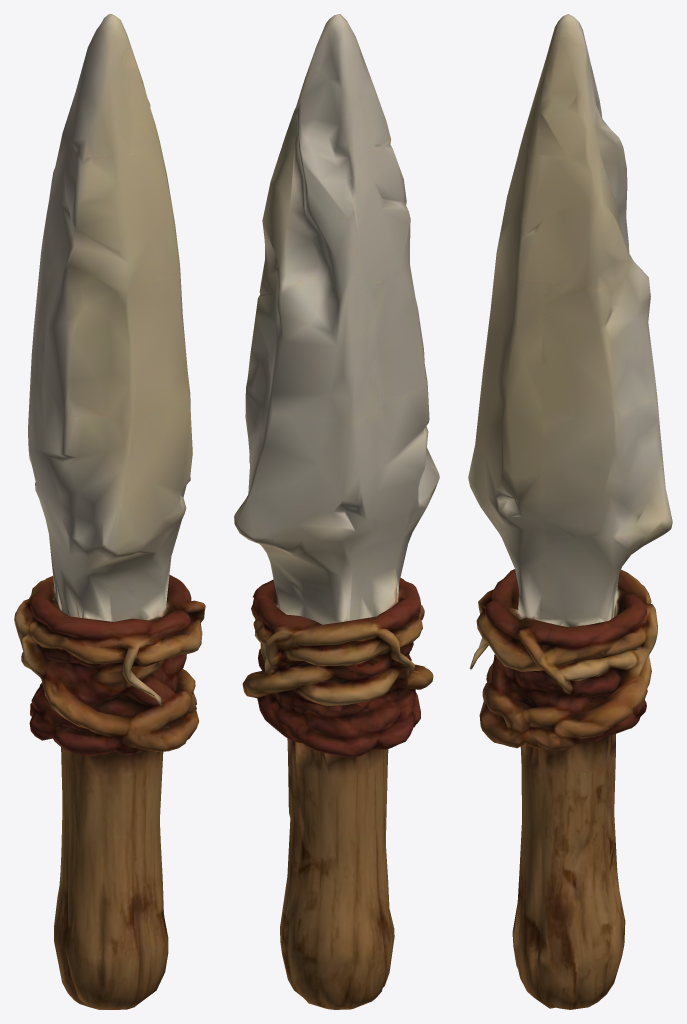
Rendered from punzon_hueso.glb.
3 views of the same model, side by side, from view 1: azimuth 30°, elevation 25°; view 2: azimuth 150°, elevation 25°; view 3: azimuth 270°, elevation 25° (orthographic).
Parts seen in each view (by area): view 1: tripo_node_c661c906-8735-4c93-a756-992541997452; view 2: tripo_node_c661c906-8735-4c93-a756-992541997452; view 3: tripo_node_c661c906-8735-4c93-a756-992541997452.
Part boxes in pixels (x1,y1,x2,y2): tripo_node_c661c906-8735-4c93-a756-992541997452: [14, 14, 205, 1009]; tripo_node_c661c906-8735-4c93-a756-992541997452: [234, 14, 439, 1009]; tripo_node_c661c906-8735-4c93-a756-992541997452: [468, 14, 672, 1009].
Bounding box in the file's own units: 0.1723 × 0.9996 × 0.1882.
1 material, 1 textured.
